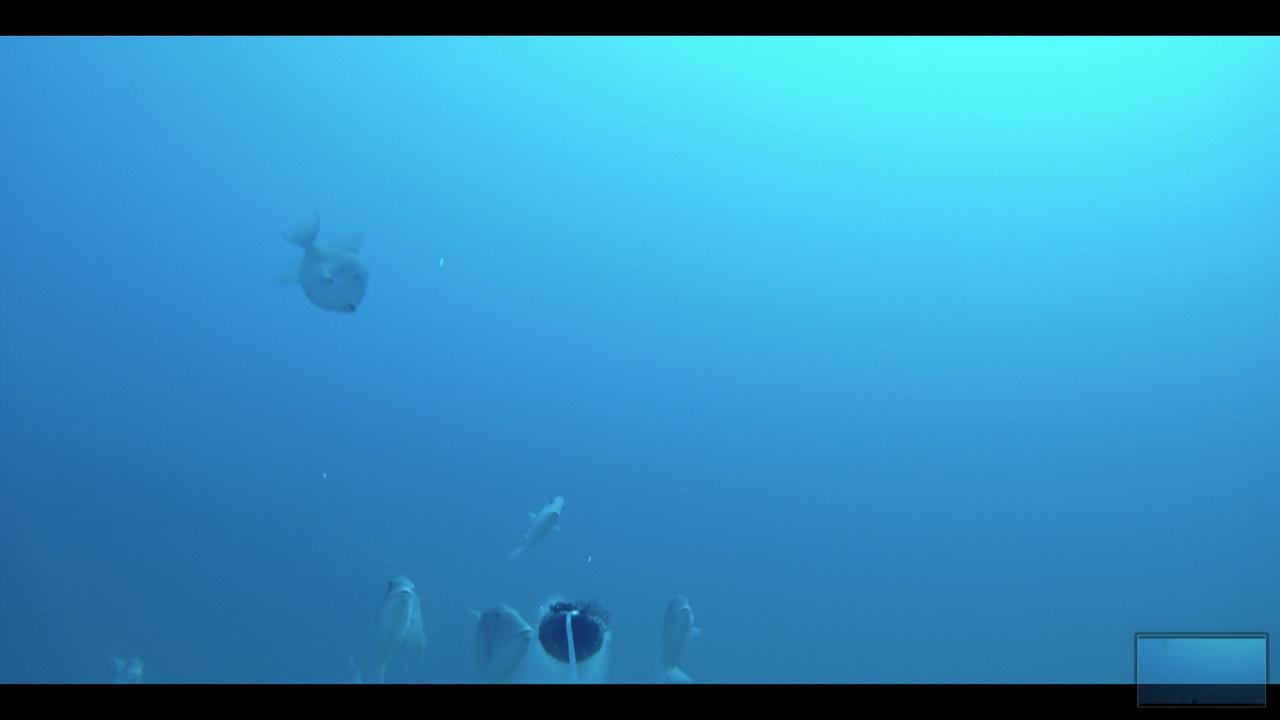balistes: (268, 206, 372, 316), (642, 586, 709, 678), (460, 598, 535, 680), (365, 569, 414, 673), (512, 489, 568, 560)
